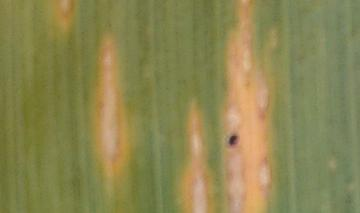tarspot: (227, 133, 238, 147)
